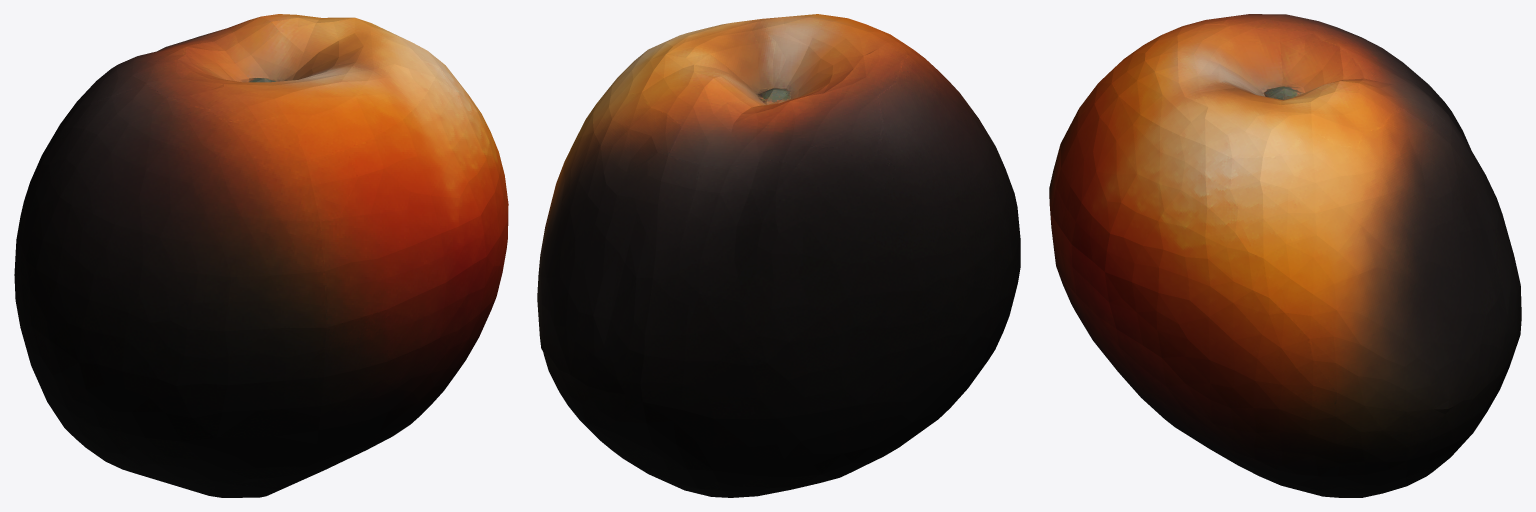
3 renders of one model, left to right at view 1: azimuth 30°, elevation 25°; view 2: azimuth 150°, elevation 25°; view 3: azimuth 270°, elevation 25°, orthographic. The views are drawn at different scales.
Parts seen in each view (by area): view 1: world; view 2: world; view 3: world.
Part boxes in pixels (left/top/right/bottom): world: left=14, top=14, right=508, bottom=497; world: left=537, top=14, right=1020, bottom=497; world: left=1049, top=14, right=1521, bottom=497.
Size of the model in its own units: 0.326 by 0.3047 by 0.3167.
Materials: 1 (1 with a texture image).
